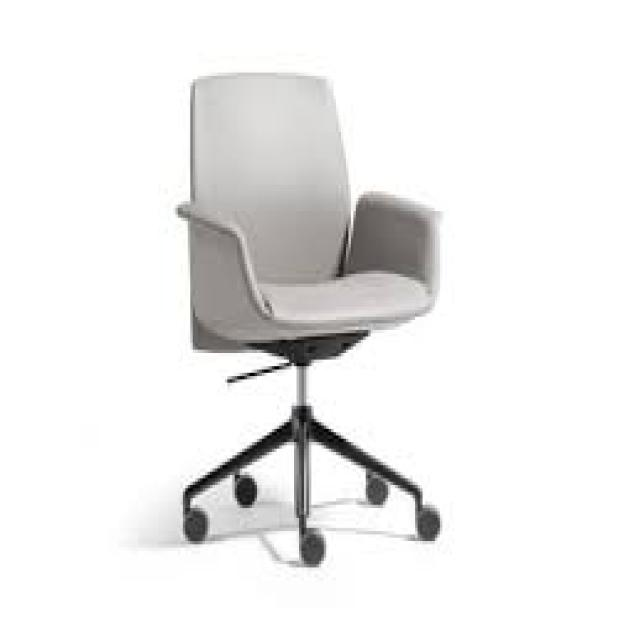chair: (121, 50, 463, 574)
